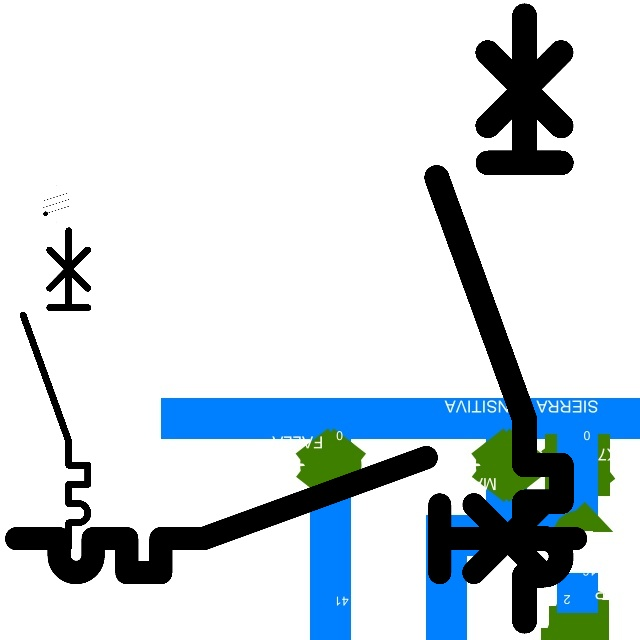interruptor_termomagnetico: (421, 0, 577, 637), (2, 443, 590, 587), (15, 222, 96, 554)
